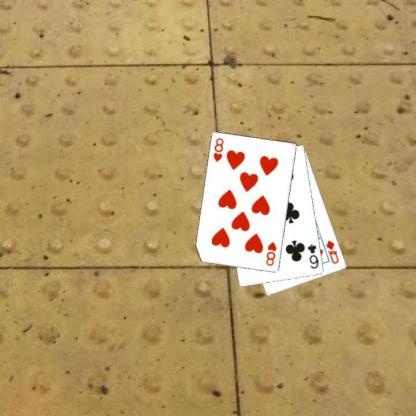6C: (305, 241, 320, 270)
8H: (263, 239, 278, 268), (211, 136, 225, 163)
QD: (324, 238, 340, 265)
